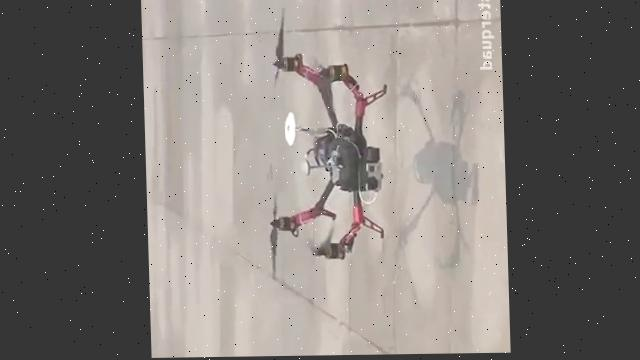drone: (259, 3, 392, 281)
